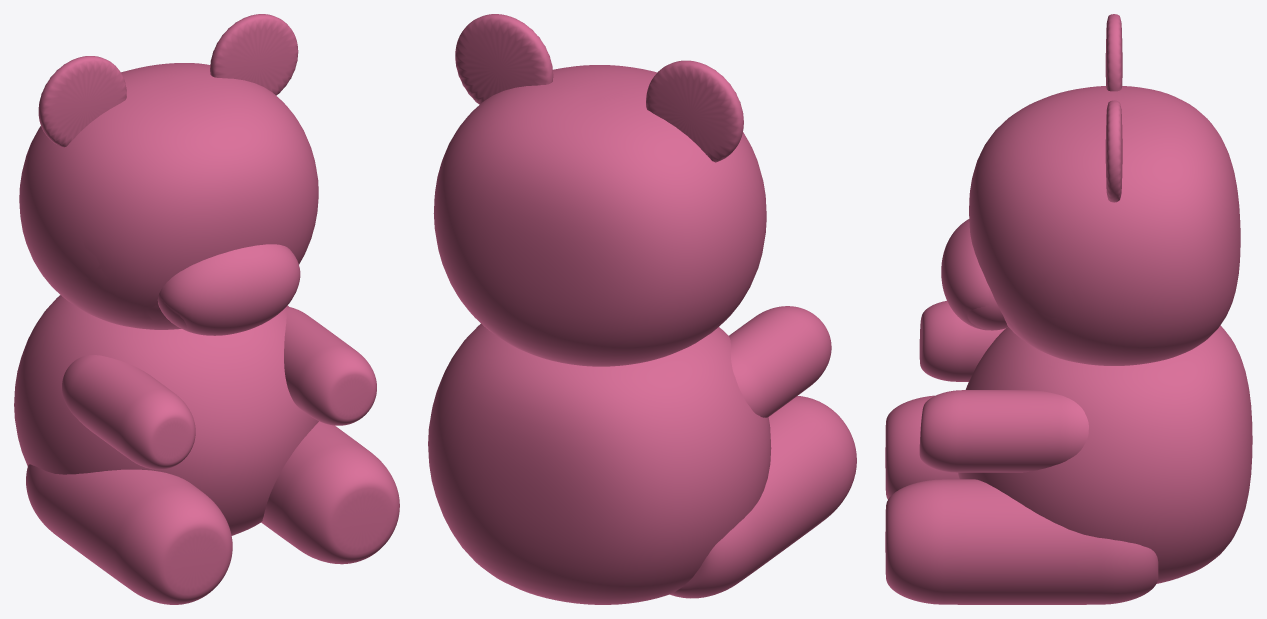
Rendered from 小熊軟糖.glb.
The picture shows the model from 3 angles, left to right: view 1: azimuth 30°, elevation 25°; view 2: azimuth 150°, elevation 25°; view 3: azimuth 270°, elevation 25°; orthographic projection. The views are drawn at different scales.
Parts seen in each view (by area): view 1: 圓柱體.001; view 2: 圓柱體.001; view 3: 圓柱體.001.
Part boxes in pixels (x1,y1,x2,y2): 圓柱體.001: [14, 14, 399, 604]; 圓柱體.001: [428, 14, 856, 604]; 圓柱體.001: [885, 14, 1252, 604].
Bounding box in the file's own units: 1.64 × 2.76 × 1.85.
